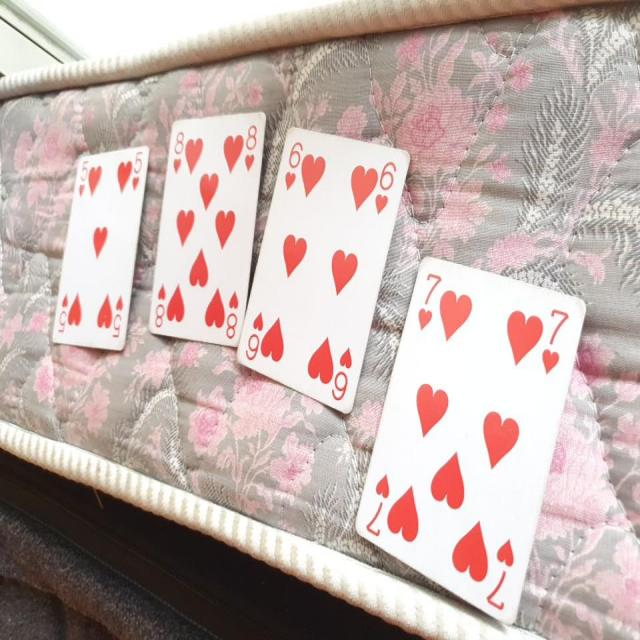5 Hearts: (49, 135, 152, 360)
6 Hearts: (241, 124, 408, 400)
7 Hearts: (359, 244, 584, 630)
8 Hearts: (145, 108, 268, 350)
